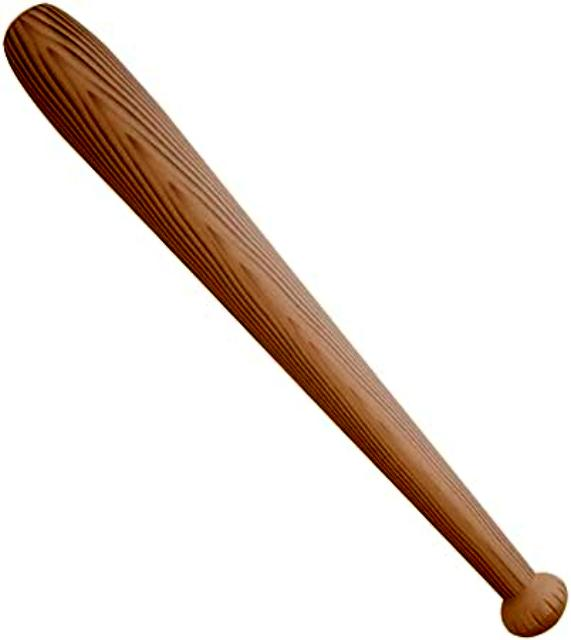baseball bat: (4, 4, 566, 628)
